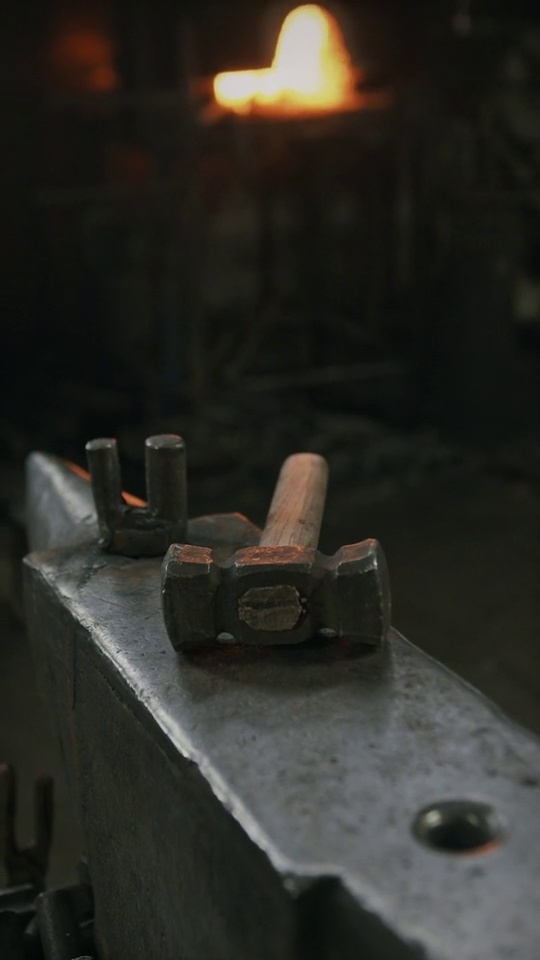hammer: (156, 448, 395, 662)
